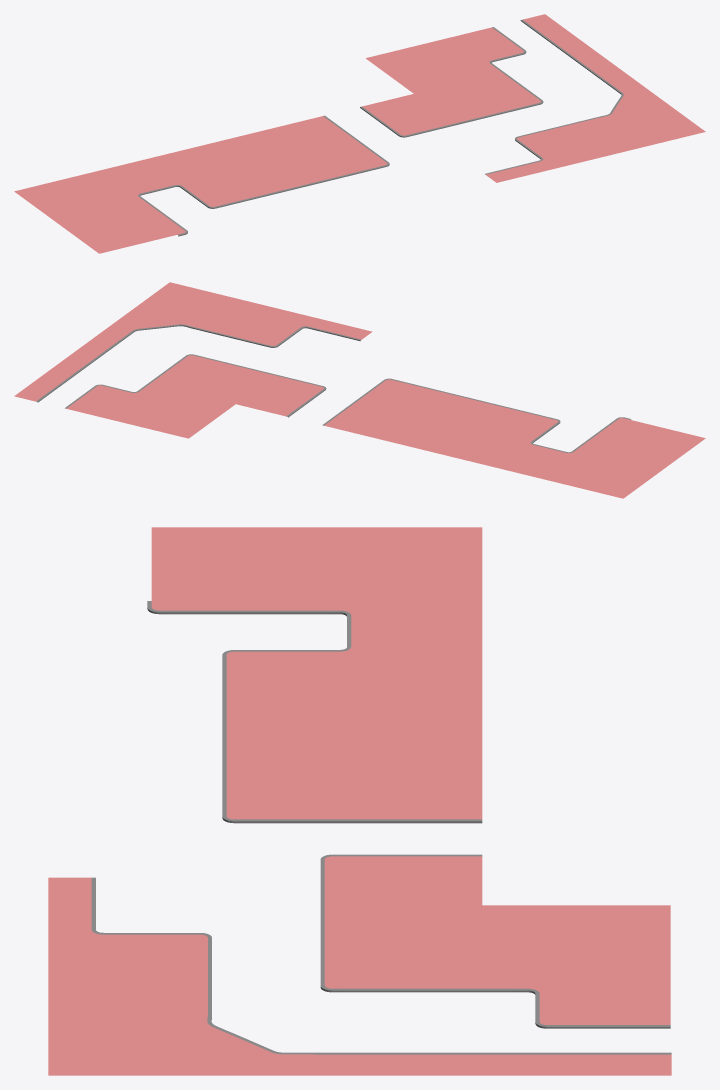
The model's file is S_Envi_Fyz_Building_91y.gltf.
The picture shows the model from 3 angles, top to bottom: view 1: azimuth 30°, elevation 25°; view 2: azimuth 150°, elevation 25°; view 3: azimuth 270°, elevation 25°; orthographic projection. The views are drawn at different scales.
Parts seen in each view (by area): view 1: S_Envi_Fyz_Building_91y; view 2: S_Envi_Fyz_Building_91y; view 3: S_Envi_Fyz_Building_91y.
Part boxes in pixels (x1=…): S_Envi_Fyz_Building_91y: x1=14, y1=14, x2=705, y2=253; S_Envi_Fyz_Building_91y: x1=14, y1=282, x2=705, y2=498; S_Envi_Fyz_Building_91y: x1=48, y1=527, x2=671, y2=1075.
Bounding box in the file's own units: 61.56 × 0.1001 × 29.58.
